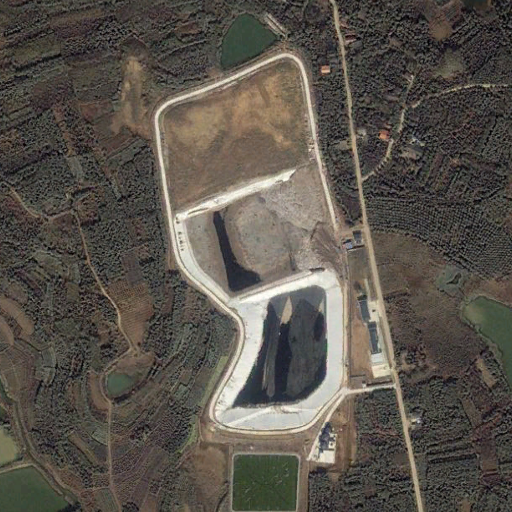lf: (152, 50, 345, 433)
